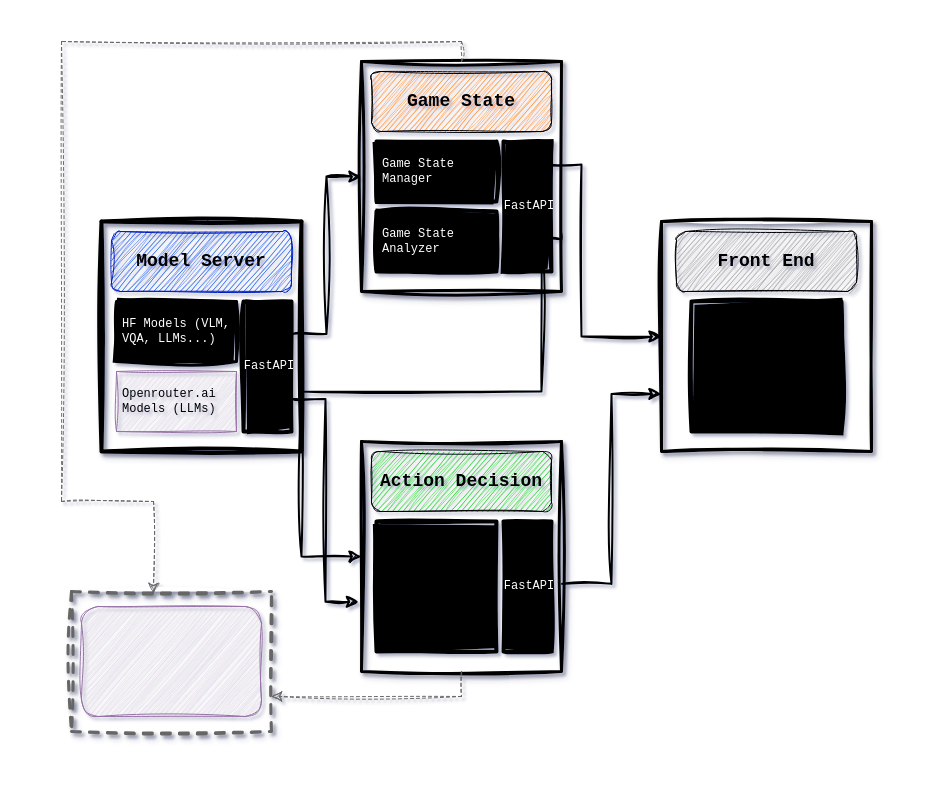
This 950x811 diagram has some shape labels left out. The centre of each missing label's shape, as x and y in pixels:
"Action Decider" goes at pixel 436 586.
"Langfuse Cloud" goes at pixel 171 661.
"NextJS 14 React Typescript TailwindCSS" goes at pixel 766 366.
